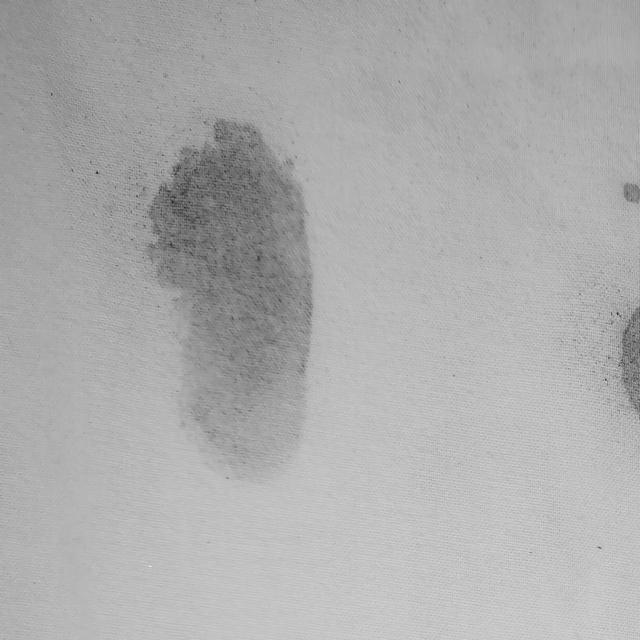Stain: (141, 118, 315, 487), (620, 306, 640, 418), (625, 183, 640, 202)
